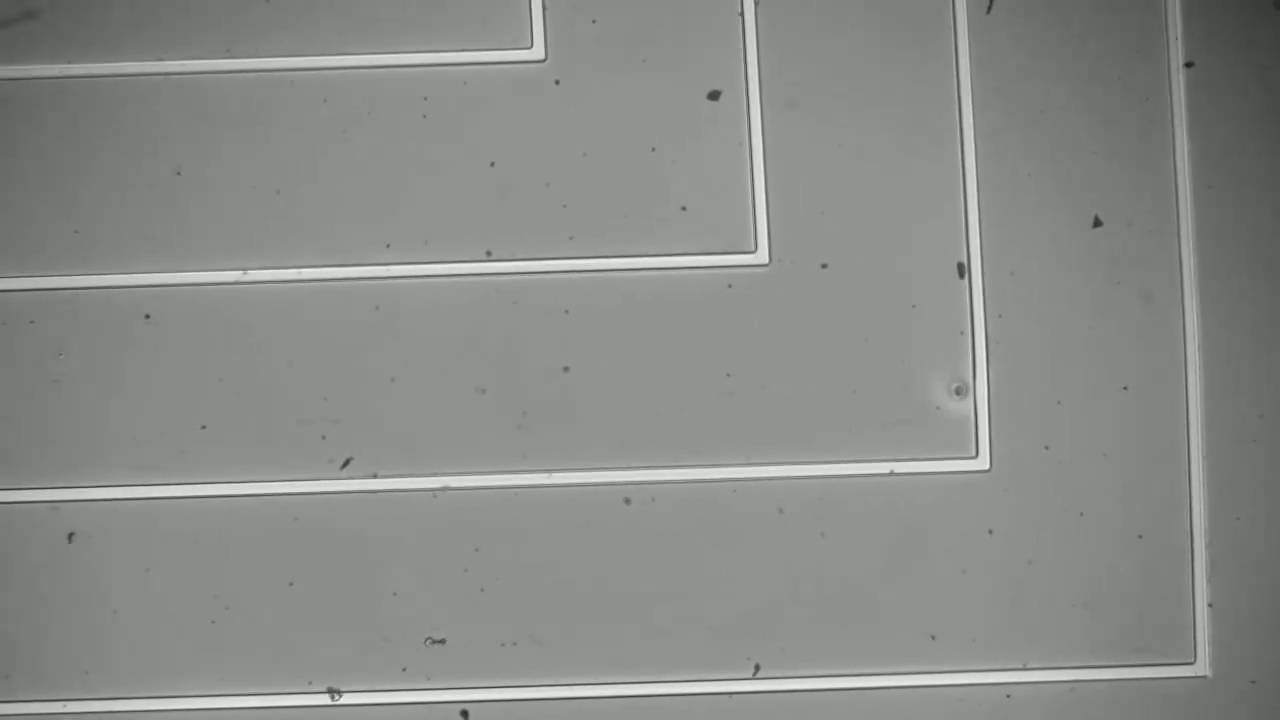stains_enbedded: (315, 674, 357, 714)
